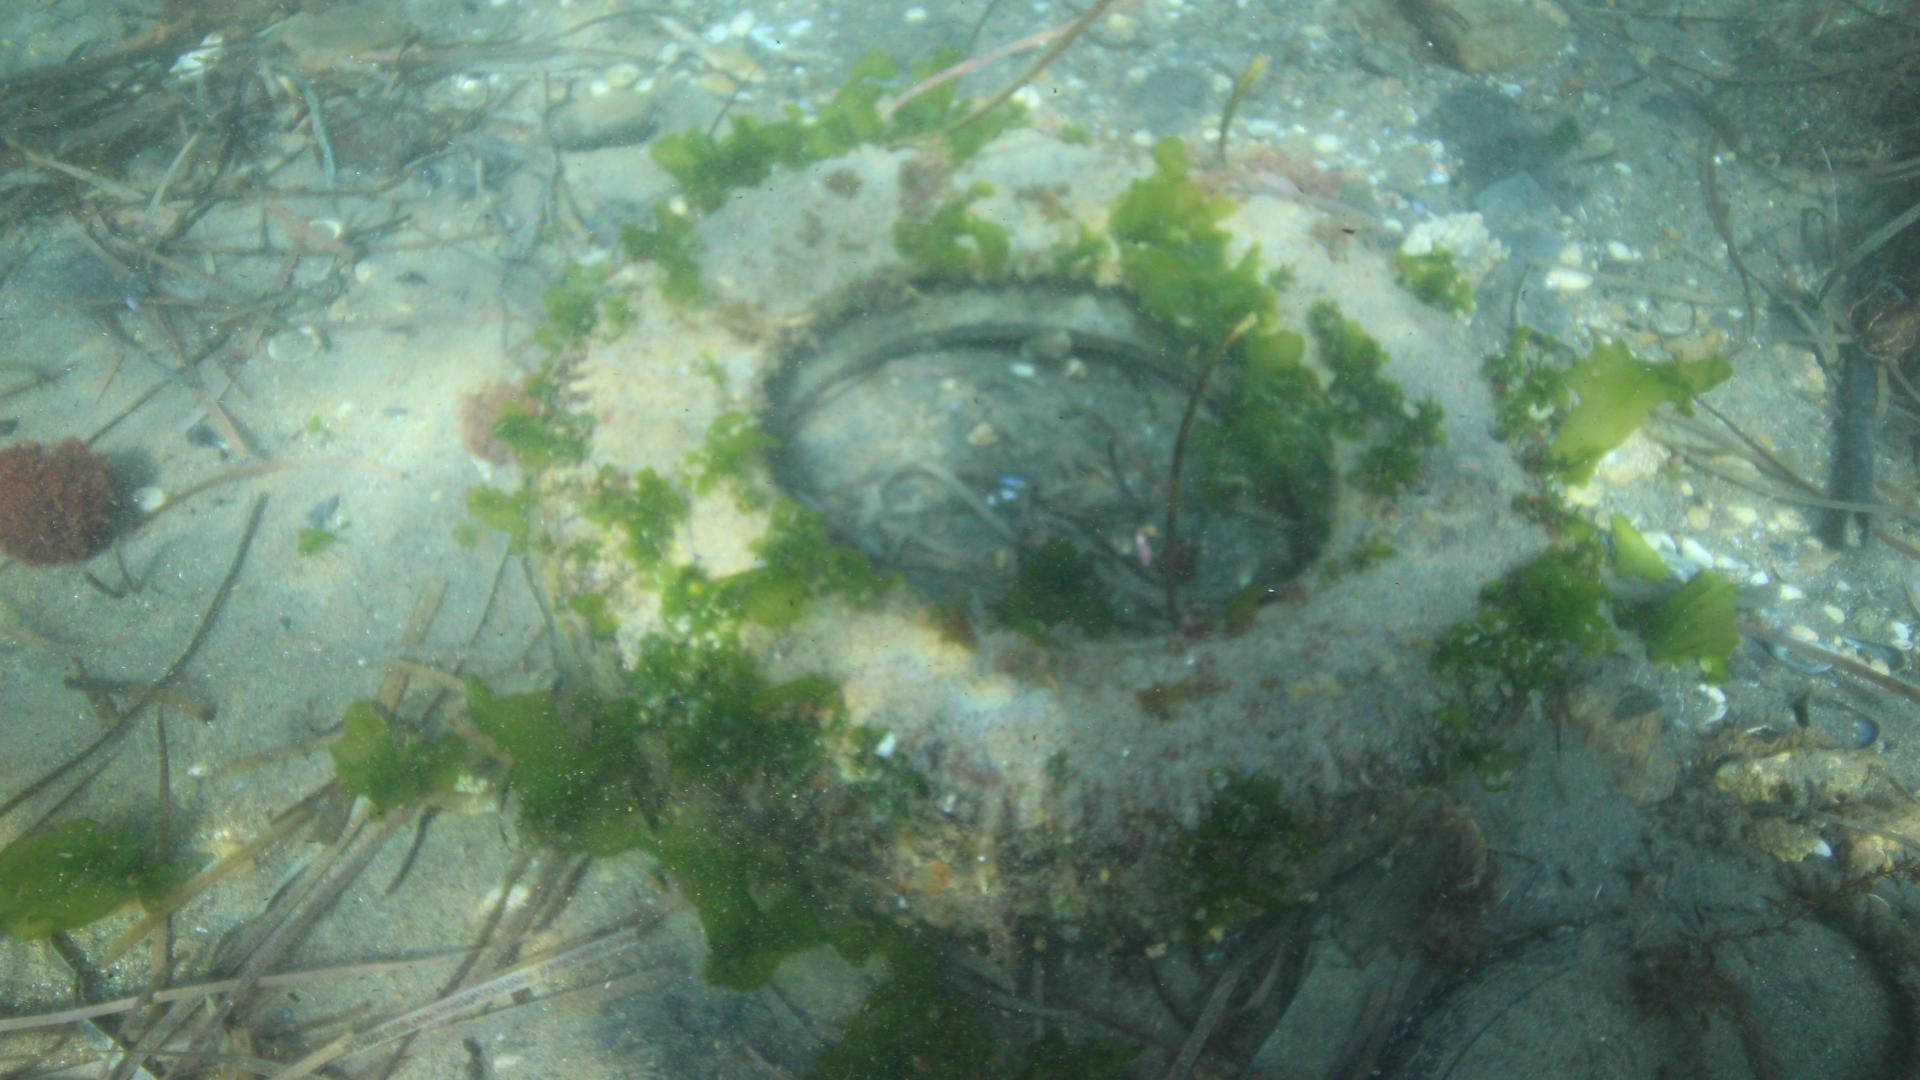tire: (524, 125, 1560, 938)
